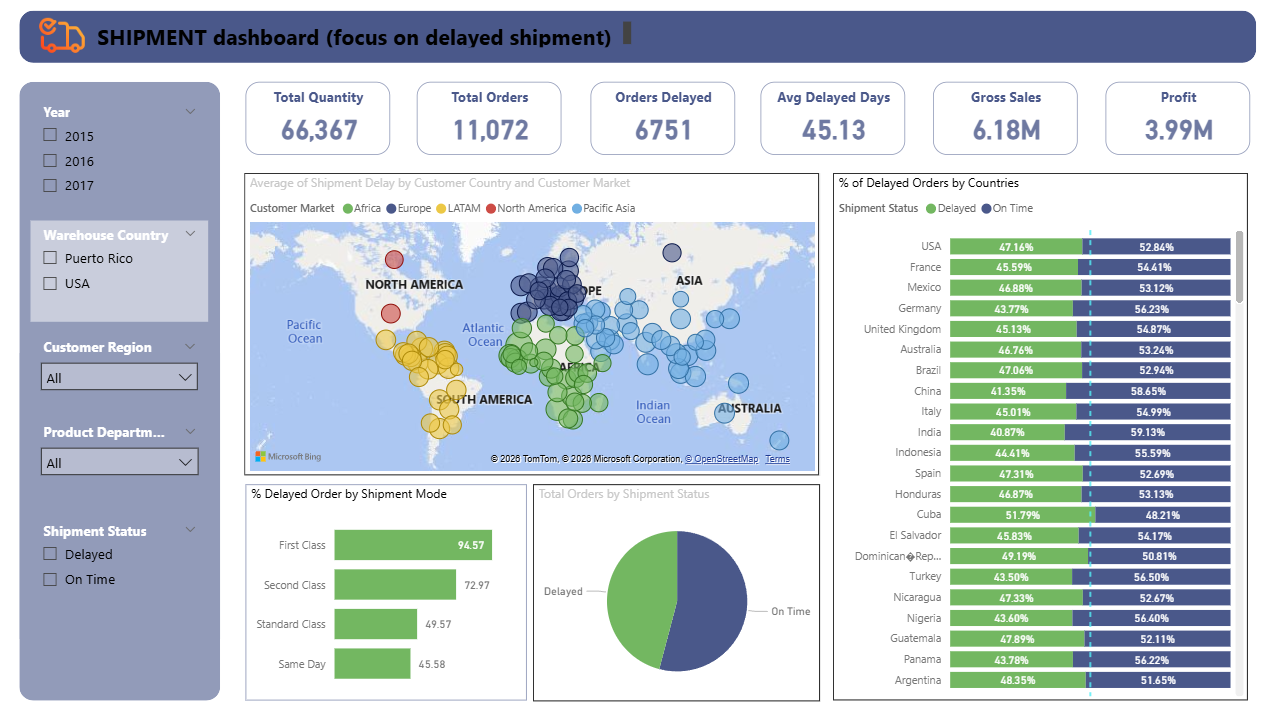

The dashboard page shown, as its layout file describes it:
{"tool":"powerbi","page":{"name":"Shipment","canvas":[1280,720],"ordinal":1},"visuals":[{"type":"clusteredBarChart","fields":{"Category":["orders_and_shipments.Shipment Mode"],"Y":["orders_and_shipments.% Delayed Order"]},"box":[251,489,280,215],"z":0},{"type":"hundredPercentStackedBarChart","title":"% of Delayed Orders by Countries","fields":{"Category":["orders_and_shipments.Customer Country"],"Y":["Count(orders_and_shipments.Order ID )"],"Series":["orders_and_shipments.Shipment Status"]},"box":[836,179,413,525],"z":1000},{"type":"shape","box":[25.6,17.8,1231.1,52.2],"z":2000},{"type":"textbox","box":[98.9,23.7,541.9,35.6],"z":3000},{"type":"image","box":[40,0,59.2,87.5],"z":4000},{"type":"card","title":"Total Quantity","fields":{"Values":["Sum(orders_and_shipments.Order Quantity)"]},"box":[251,88,144,73],"z":5000},{"type":"card","title":"Total Orders","fields":{"Values":["orders_and_shipments.Total Orders"]},"box":[422,88,144,73],"z":6000},{"type":"card","title":"Orders Delayed","fields":{"Values":["orders_and_shipments.Delayed Orders"]},"box":[594,88,144,73],"z":7000},{"type":"card","title":"Avg Delayed Days","fields":{"Values":["Avg(orders_and_shipments.Shipment Delay)"]},"box":[764,88,144,73],"z":8000},{"type":"card","title":"Gross Sales","fields":{"Values":["Sum(orders_and_shipments. Gross Sales )"]},"box":[936,88,144,73],"z":9000},{"type":"card","title":"Profit","fields":{"Values":["Sum(orders_and_shipments. Profit )"]},"box":[1107,88,144,73],"z":10000},{"type":"shape","box":[26,88,200,616],"z":11000},{"type":"slicer","fields":{"Values":["orders_and_shipments.Product Department"]},"box":[37,423,177,76],"z":12000},{"type":"slicer","fields":{"Values":["orders_and_shipments.Order Date.Variation.Date Hierarchy.Year"]},"box":[37,104,177,116],"z":13000},{"type":"slicer","fields":{"Values":["orders_and_shipments.Warehouse Country"]},"box":[37,227,177,101],"z":14000},{"type":"slicer","fields":{"Values":["orders_and_shipments.Customer Region"]},"box":[36.9,338.9,176.7,75.2],"z":15000},{"type":"slicer","fields":{"Values":["orders_and_shipments.Shipment Status"]},"box":[37,521,177,121],"z":16000},{"type":"map","fields":{"Category":["orders_and_shipments.Customer Country"],"Size":["Avg(orders_and_shipments.Shipment Delay)"],"Series":["orders_and_shipments.Customer Market"]},"box":[250.5,179.3,572.2,300.6],"z":17000},{"type":"pieChart","fields":{"Category":["orders_and_shipments.Shipment Status"],"Y":["orders_and_shipments.Total Orders"]},"box":[537.1,488.6,285.7,215.7],"z":18000}]}

Visuals, with their boxes in screenshot pixels (x1, y1, x2, y2), scaled from the page's 1280x720 canvas onto the 1267x707 screenshot:
clusteredBarChart - orders_and_shipments.Shipment Mode x orders_and_shipments.% Delayed Order: (left=248, top=480, right=526, bottom=691)
"% of Delayed Orders by Countries" hundredPercentStackedBarChart: (left=828, top=176, right=1236, bottom=691)
shape: (left=25, top=17, right=1244, bottom=69)
textbox: (left=98, top=23, right=634, bottom=58)
image: (left=40, top=0, right=98, bottom=86)
"Total Quantity" card: (left=248, top=86, right=391, bottom=158)
"Total Orders" card: (left=418, top=86, right=560, bottom=158)
"Orders Delayed" card: (left=588, top=86, right=731, bottom=158)
"Avg Delayed Days" card: (left=756, top=86, right=899, bottom=158)
"Gross Sales" card: (left=926, top=86, right=1069, bottom=158)
"Profit" card: (left=1096, top=86, right=1238, bottom=158)
shape: (left=26, top=86, right=224, bottom=691)
slicer - orders_and_shipments.Product Department: (left=37, top=415, right=212, bottom=490)
slicer - orders_and_shipments.Order Date.Variation.Date Hierarchy.Year: (left=37, top=102, right=212, bottom=216)
slicer - orders_and_shipments.Warehouse Country: (left=37, top=223, right=212, bottom=322)
slicer - orders_and_shipments.Customer Region: (left=37, top=333, right=211, bottom=407)
slicer - orders_and_shipments.Shipment Status: (left=37, top=512, right=212, bottom=630)
map - orders_and_shipments.Customer Country x Avg(orders_and_shipments.Shipment Delay): (left=248, top=176, right=814, bottom=471)
pieChart - orders_and_shipments.Shipment Status x orders_and_shipments.Total Orders: (left=532, top=480, right=814, bottom=692)
